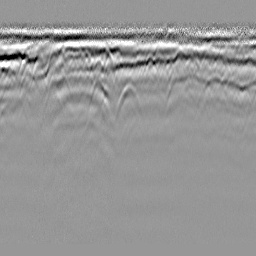cavity: (113, 82, 143, 125)
